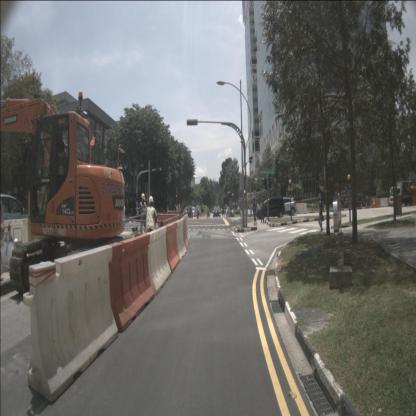barrier: (23, 245, 118, 405), (113, 233, 156, 332), (148, 226, 173, 296), (166, 221, 182, 273), (158, 216, 180, 244), (176, 218, 187, 259), (182, 215, 190, 248), (185, 214, 191, 244), (296, 201, 308, 215), (380, 196, 388, 208), (371, 198, 380, 208)
